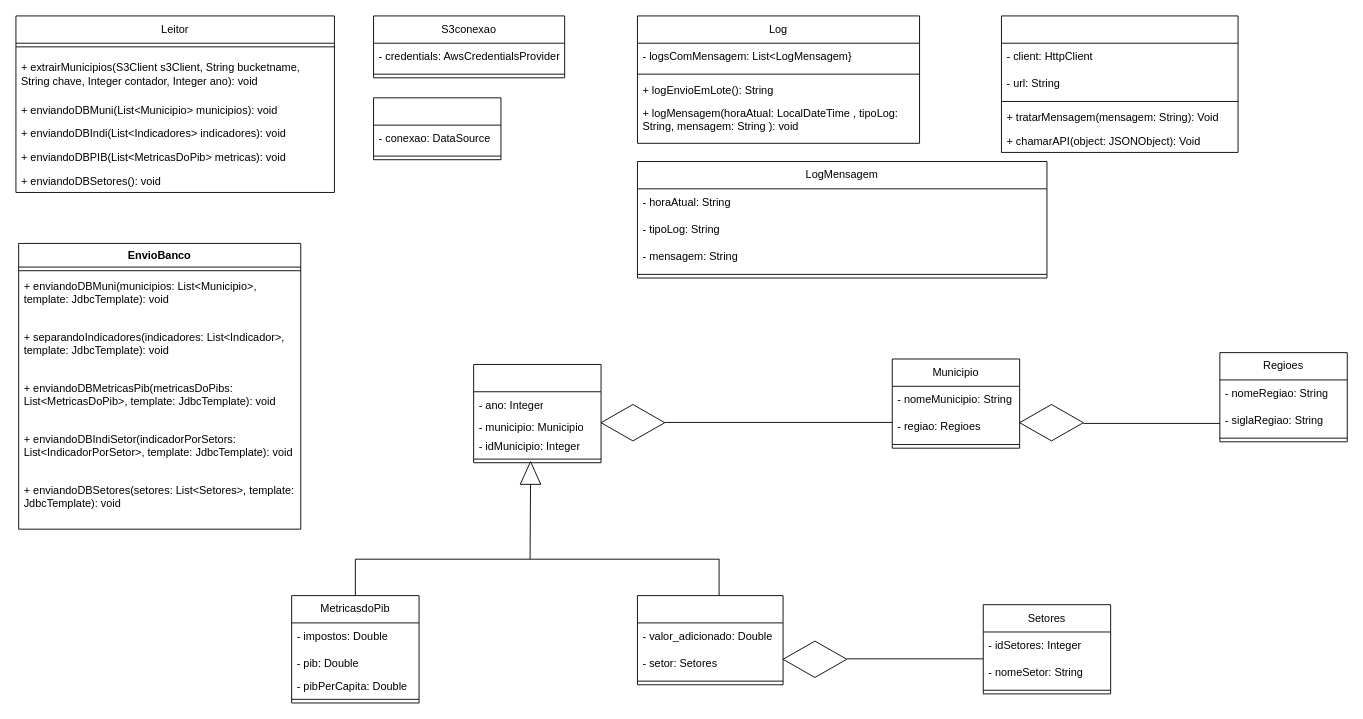
Some shapes in this 1363 by 719 pixel diagram are drawn without their labels. Each missing label, with the box of its shape:
Conexão: (373, 97, 501, 160)
Indicador: (473, 364, 601, 463)
IndicadorPorSetor: (637, 595, 783, 685)
Slack: (1001, 15, 1238, 152)
